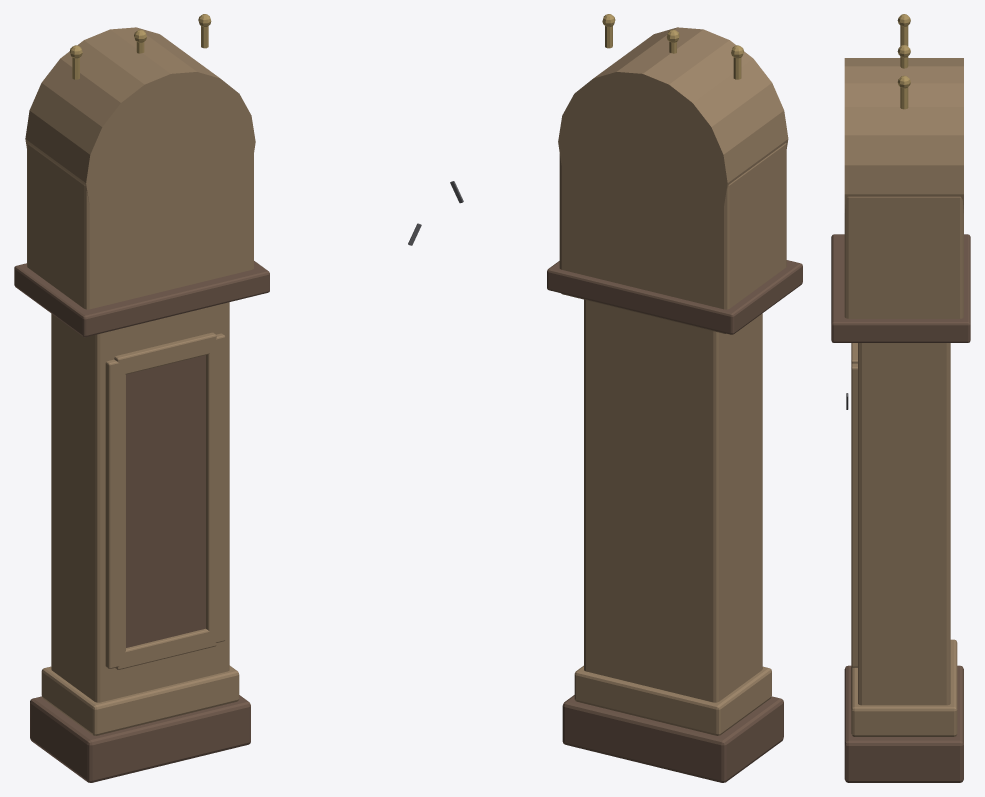
The picture shows the model from 3 angles, left to right: view 1: azimuth 30°, elevation 25°; view 2: azimuth 150°, elevation 25°; view 3: azimuth 270°, elevation 25°; orthographic projection.
Visible parts, largest first — view 1: grandfatherClock; view 2: grandfatherClock; view 3: grandfatherClock.
Boxes of the visible parts, x1,y1,x2,y2 form: grandfatherClock: (14,14,421,782); grandfatherClock: (450,14,802,782); grandfatherClock: (831,14,970,782).
Bounding box in the file's own units: 1.18 × 2.33 × 0.42.
